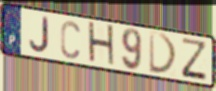9: (120, 27, 146, 72)
C: (60, 19, 82, 61)
D: (148, 30, 179, 76)
H: (86, 20, 116, 70)
J: (28, 15, 51, 54)
Z: (180, 37, 209, 83)
